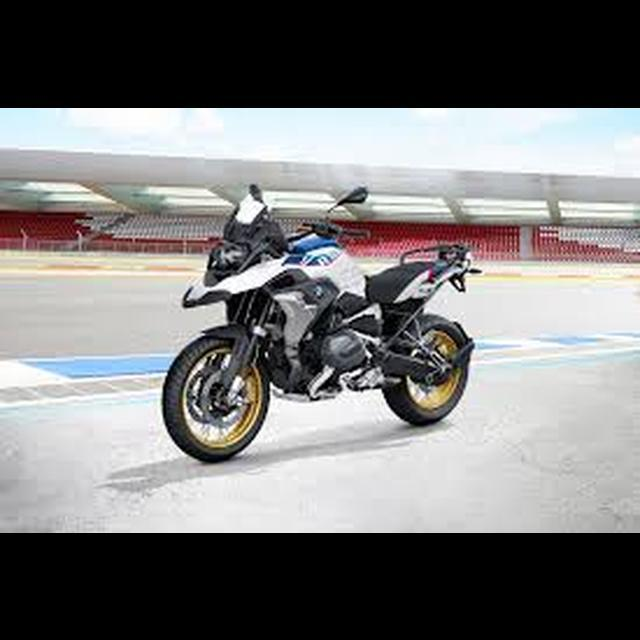motorcycle: (159, 179, 485, 467)
